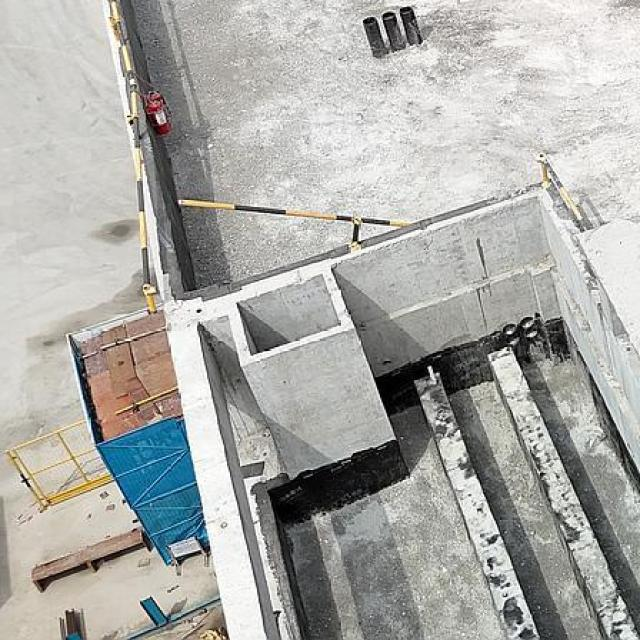edge_guardrail: (108, 0, 158, 313), (177, 197, 412, 244), (539, 152, 588, 234)
